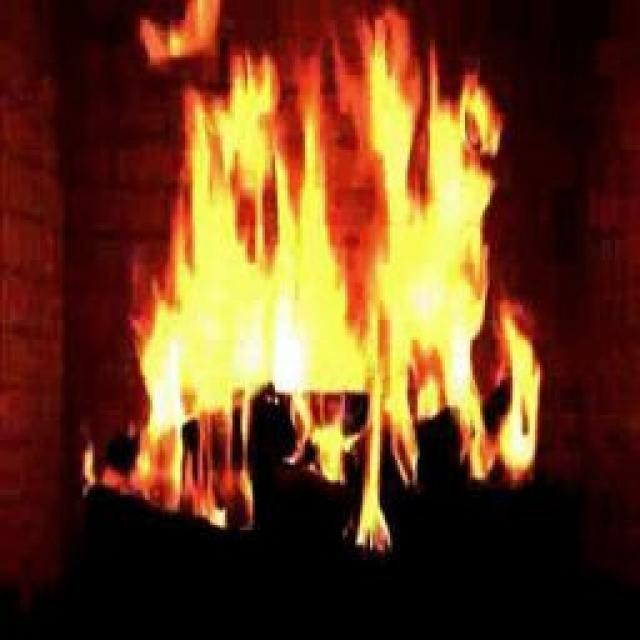fire: (88, 2, 560, 551)
